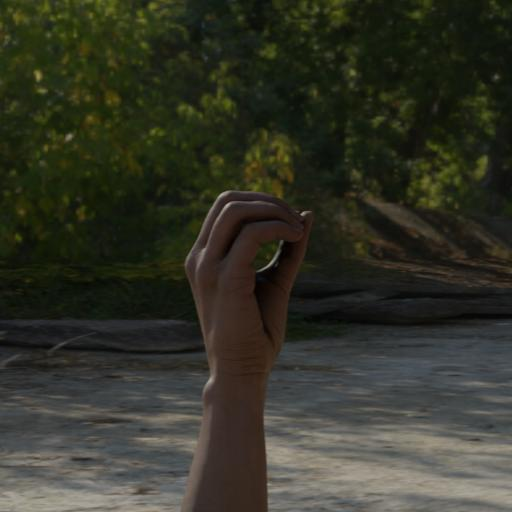O: (167, 188, 346, 479)
